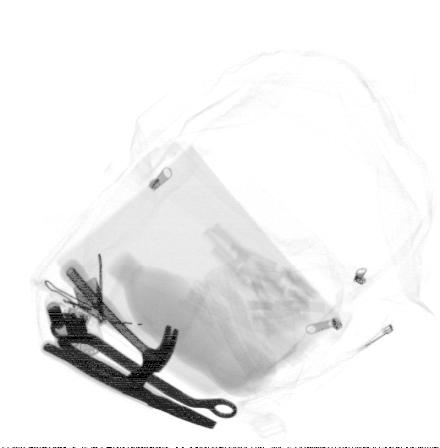Hammer: (59, 262, 180, 390)
Pliers: (38, 335, 216, 431)
Wrench: (51, 314, 236, 422)
